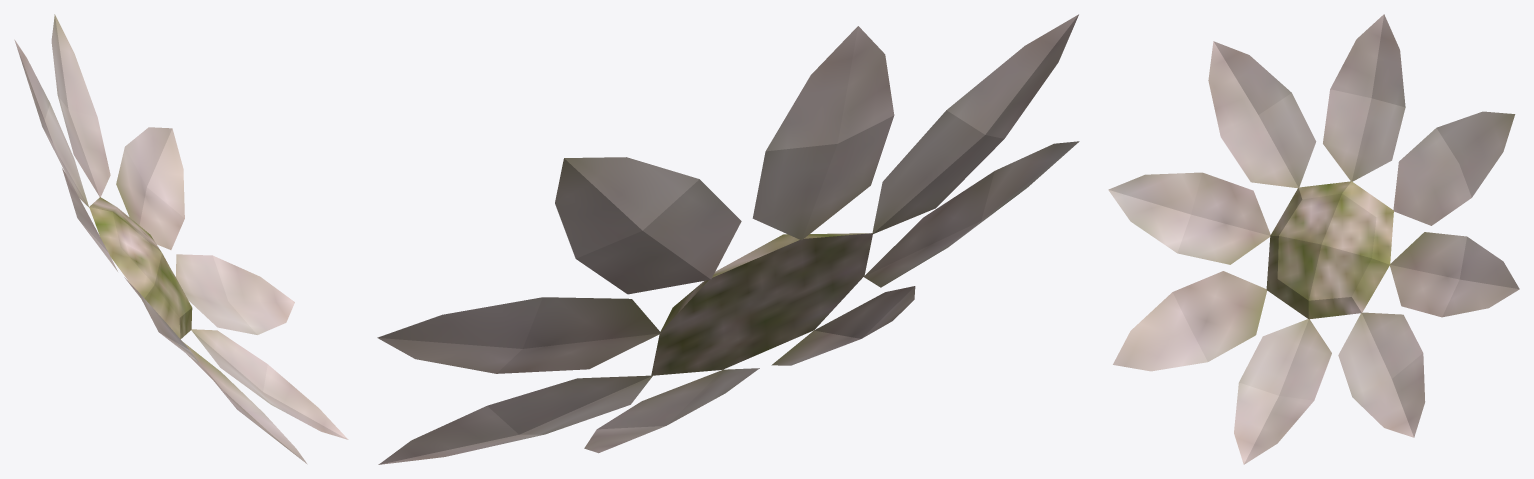
File: f_cilantro.glb
3 views of the same model, side by side, from view 1: azimuth 30°, elevation 25°; view 2: azimuth 150°, elevation 25°; view 3: azimuth 270°, elevation 25° (orthographic). The views are drawn at different scales.
Visible parts, largest first — view 1: Cube.004; view 2: Cube.004; view 3: Cube.004.
Part boxes in pixels (x1,y1,x2,y2): Cube.004: [14, 14, 348, 464]; Cube.004: [377, 14, 1079, 464]; Cube.004: [1108, 14, 1519, 464].
Size of the model in its own units: 0.0301 by 0.0337 by 0.0364.
1 material, 1 textured.
